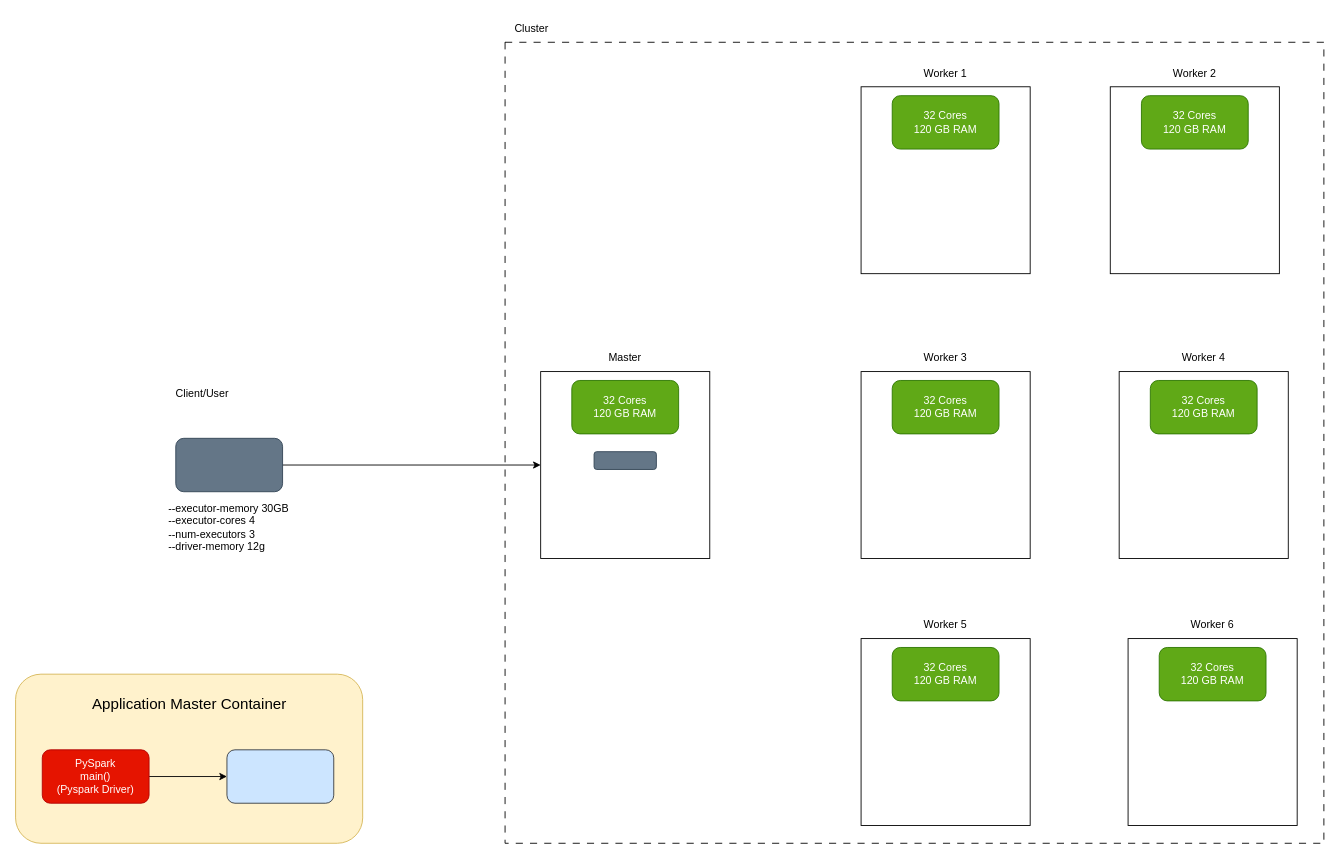
Image size: 1339x859. Some labels were removed from this diagram. Each missing label, with the box of its shape:
JVM main() (Application Driver): (226, 749, 334, 803)
spark-submit: (175, 437, 283, 492)
YARN: (593, 451, 656, 469)
